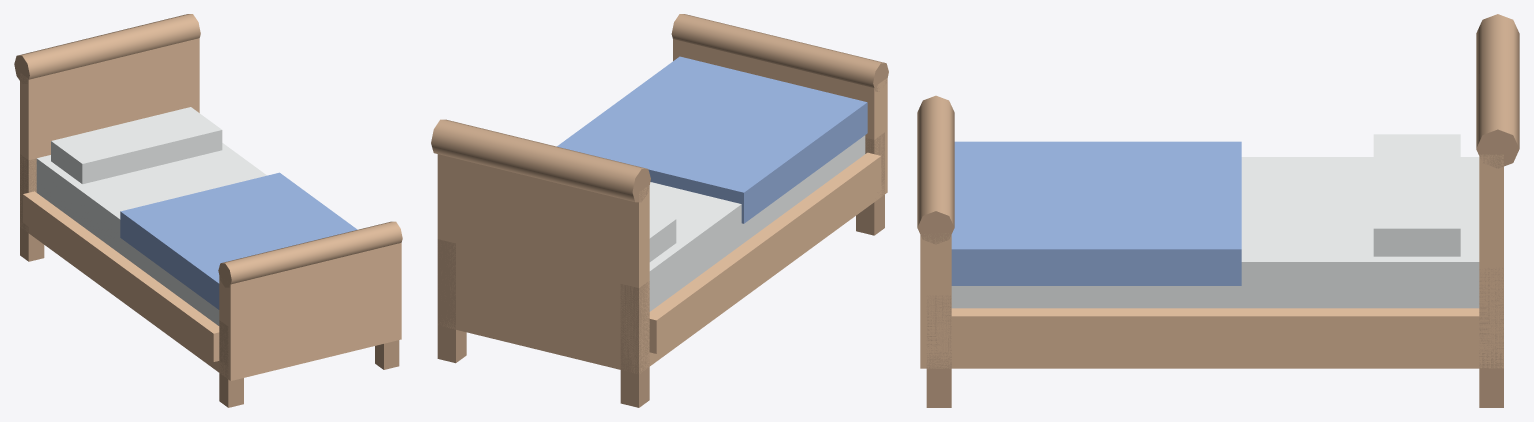
File: bedSingleSleigh.glb
3 renders of one model, left to right at view 1: azimuth 30°, elevation 25°; view 2: azimuth 150°, elevation 25°; view 3: azimuth 270°, elevation 25°, orthographic. The views are drawn at different scales.
Visible parts, largest first — view 1: bedSingleSleigh; view 2: bedSingleSleigh; view 3: bedSingleSleigh.
Part boxes in pixels (x1,y1,x2,y2): bedSingleSleigh: [14, 14, 402, 407]; bedSingleSleigh: [431, 14, 888, 407]; bedSingleSleigh: [917, 14, 1519, 407].
Size of the model in its own units: 0.47 by 0.495 by 0.97.
